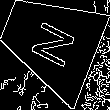N_NW: (23, 13, 77, 70)
